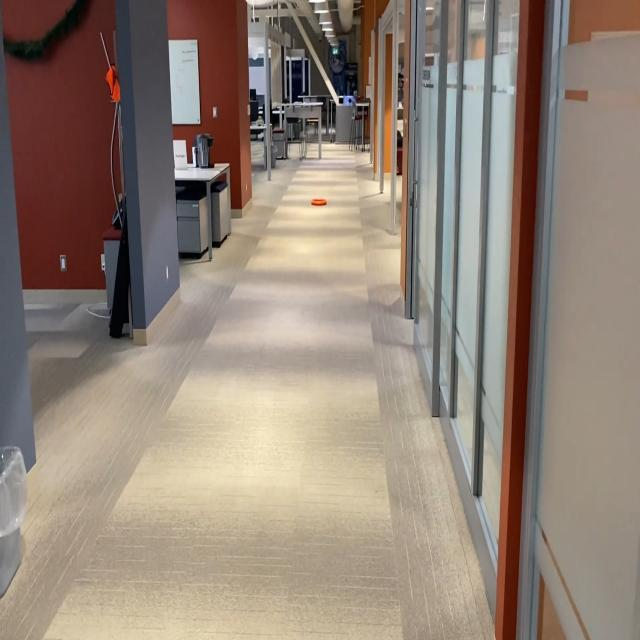note: (310, 196, 328, 208)
